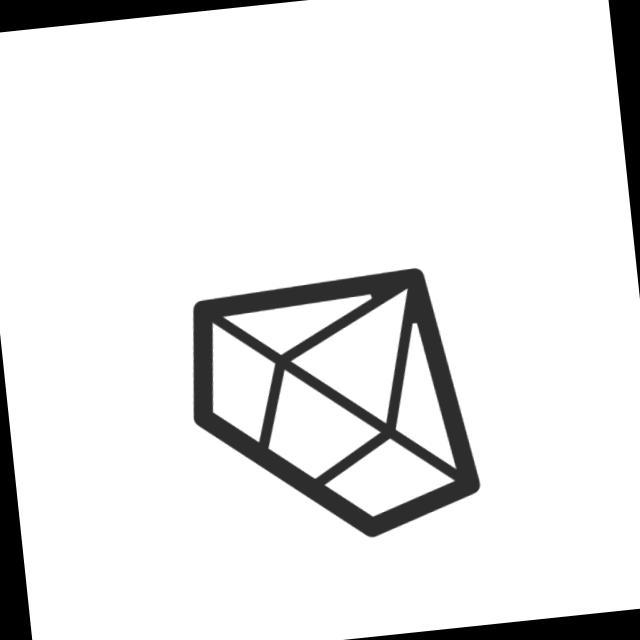diamond: (173, 260, 490, 562)
